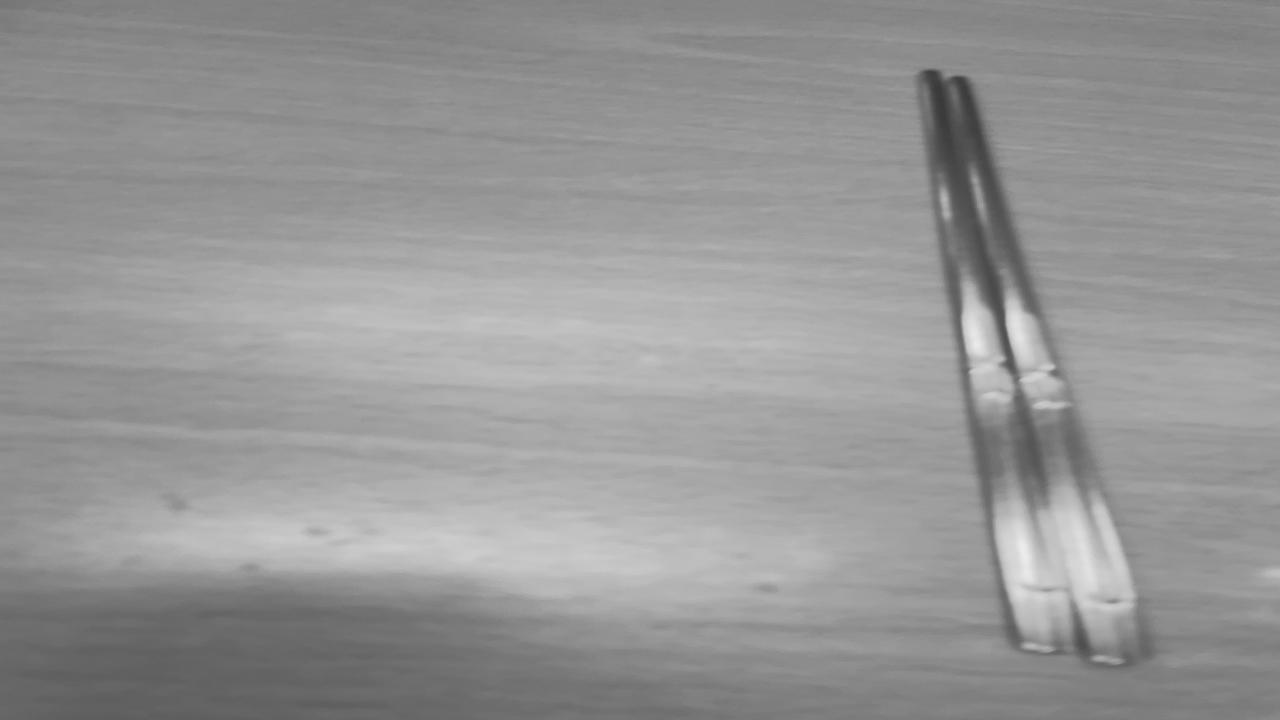chopstick: (921, 71, 1145, 660)
